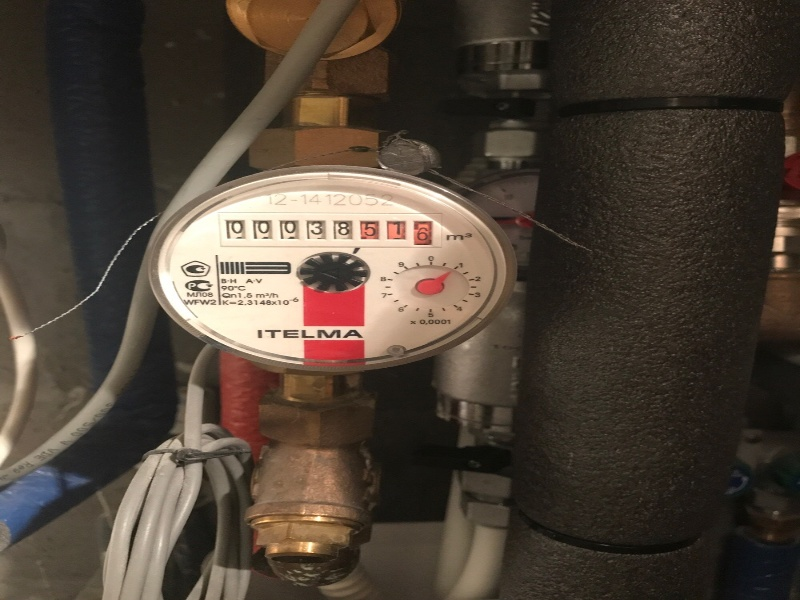dial: (221, 210, 433, 250)
